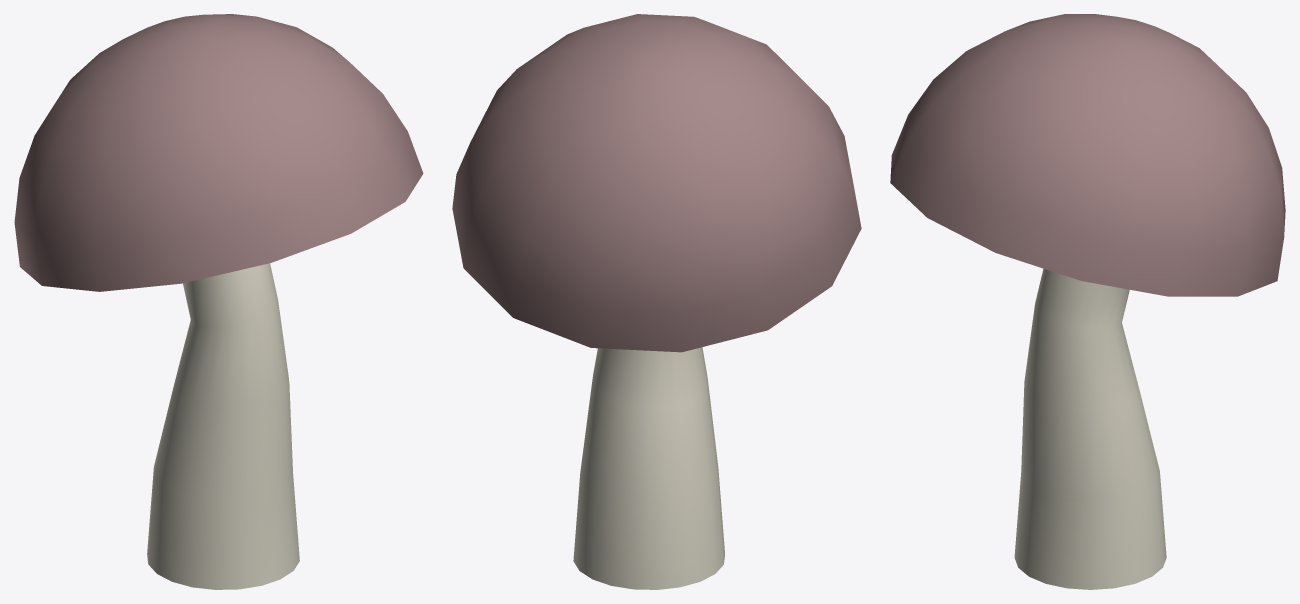
File: paddenstoel2.fbx
3 views of the same model, side by side, from view 1: azimuth 30°, elevation 25°; view 2: azimuth 150°, elevation 25°; view 3: azimuth 270°, elevation 25° (orthographic).
Visible parts, largest first — view 1: polySurface185; view 2: polySurface185; view 3: polySurface185.
Part boxes in pixels (left/top/right/bottom): polySurface185: left=14, top=14, right=423, bottom=589; polySurface185: left=452, top=14, right=861, bottom=589; polySurface185: left=890, top=14, right=1285, bottom=589.
Bounding box in the file's own units: 0.2106 × 0.2981 × 0.2043.
